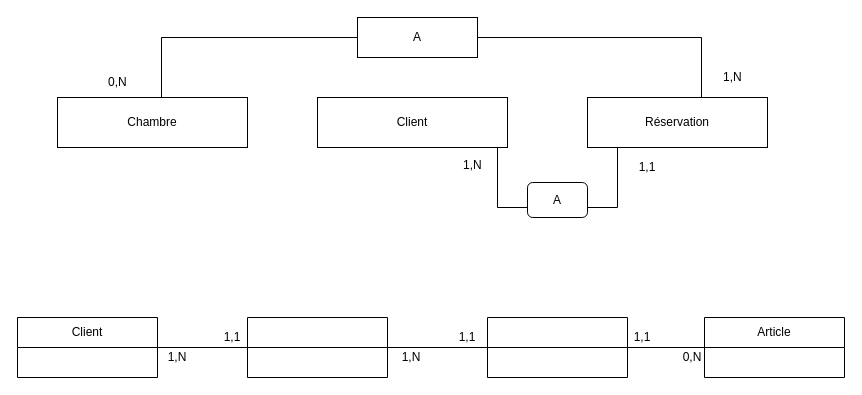
The diagram is 862 pixels wide and 395 high, and some of its shapes have lost their labels. Each missing label, with the box of its shape:
Commande: (246, 316, 388, 378)
Ligne Détail Commande: (486, 316, 628, 378)
